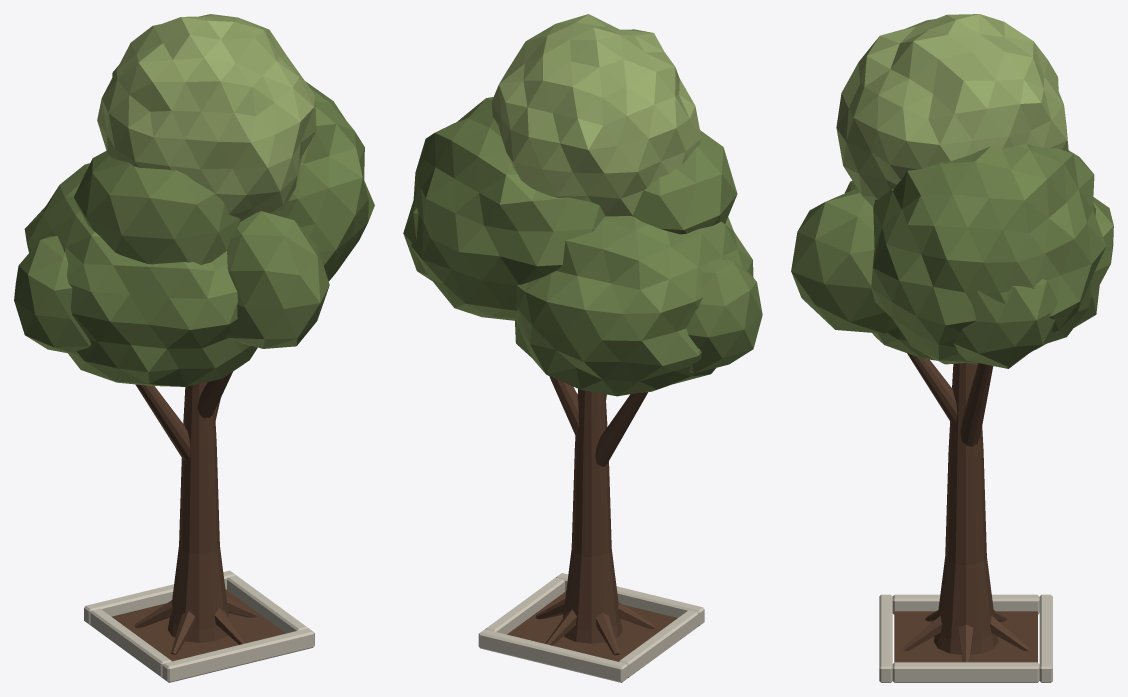
Rendered from SM_Tree_L0.glb.
The picture shows the model from 3 angles, left to right: view 1: azimuth 30°, elevation 25°; view 2: azimuth 150°, elevation 25°; view 3: azimuth 270°, elevation 25°; orthographic projection. The views are drawn at different scales.
Visible parts, largest first — view 1: SM_Tree; view 2: SM_Tree; view 3: SM_Tree.
Boxes of the visible parts, left/top/right/bottom form: SM_Tree: left=14, top=14, right=374, bottom=682; SM_Tree: left=403, top=14, right=762, bottom=682; SM_Tree: left=791, top=14, right=1113, bottom=682.
Bounding box in the file's own units: 2.37 × 4.16 × 1.93.
